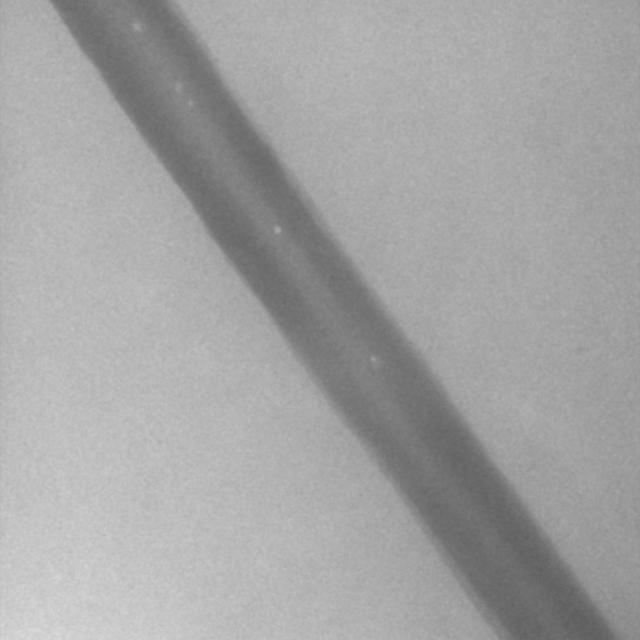air hole: (130, 20, 143, 34), (172, 78, 182, 92), (271, 223, 282, 235), (367, 353, 378, 364), (187, 99, 195, 110)
